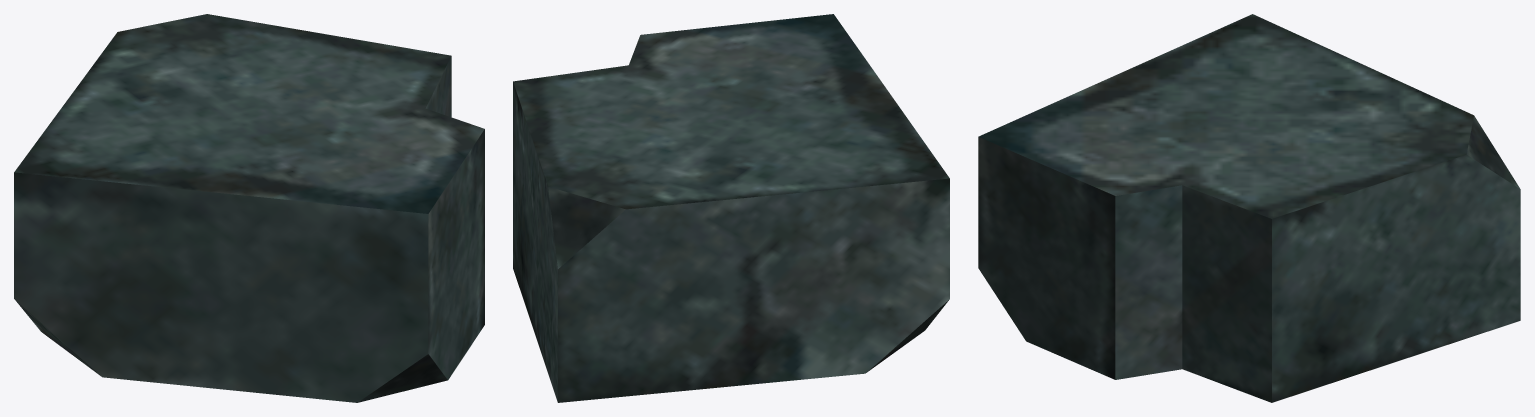
File: floor_peice1.fbx
3 renders of one model, left to right at view 1: azimuth 30°, elevation 25°; view 2: azimuth 150°, elevation 25°; view 3: azimuth 270°, elevation 25°, orthographic. The views are drawn at different scales.
Visible parts, largest first — view 1: obj0.008; view 2: obj0.008; view 3: obj0.008.
Boxes of the visible parts, x1,y1,x2,y2 form: obj0.008: [14, 14, 484, 402]; obj0.008: [513, 14, 949, 402]; obj0.008: [978, 14, 1520, 402].
Bounding box in the file's own units: 1.21 × 0.5083 × 1.36.
